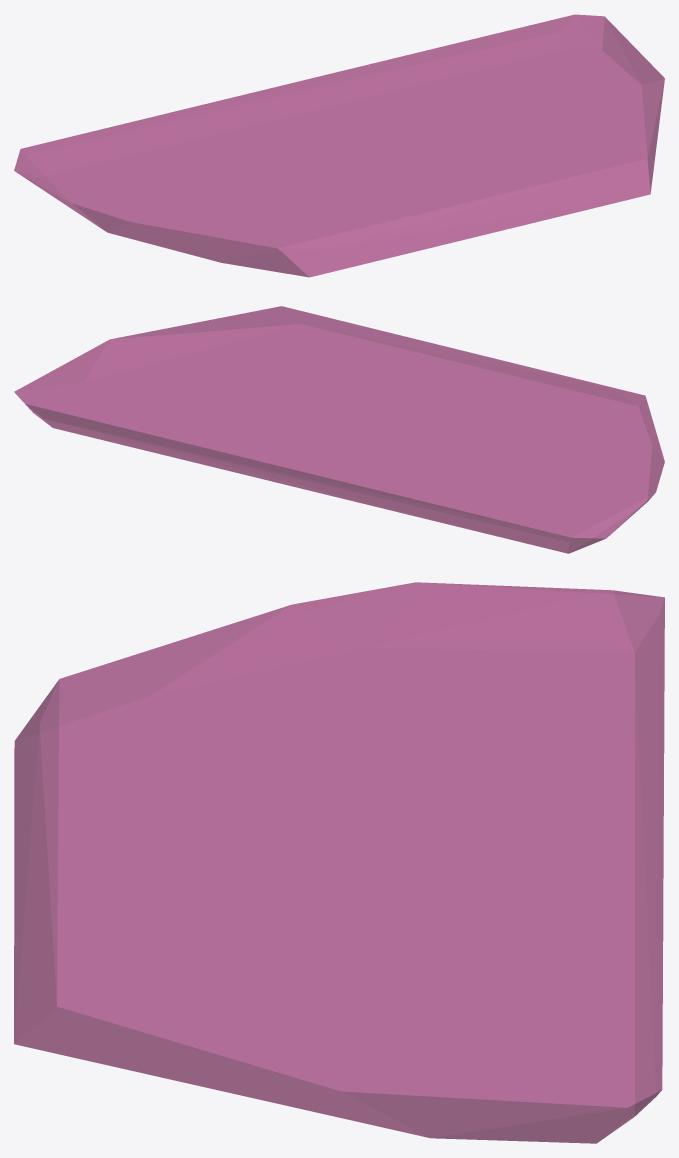
3 renders of one model, top to bottom at view 1: azimuth 30°, elevation 25°; view 2: azimuth 150°, elevation 25°; view 3: azimuth 270°, elevation 25°, orthographic. The views are drawn at different scales.
Visible parts, largest first — view 1: Shape_IndexedFaceSet.007_Shape_IndexedFaceSet.11085; view 2: Shape_IndexedFaceSet.007_Shape_IndexedFaceSet.11085; view 3: Shape_IndexedFaceSet.007_Shape_IndexedFaceSet.11085.
Boxes of the visible parts, x1=… form: Shape_IndexedFaceSet.007_Shape_IndexedFaceSet.11085: x1=14, y1=14, x2=664, y2=277; Shape_IndexedFaceSet.007_Shape_IndexedFaceSet.11085: x1=14, y1=306, x2=664, y2=553; Shape_IndexedFaceSet.007_Shape_IndexedFaceSet.11085: x1=14, y1=582, x2=664, y2=1143.
Bounding box in the file's own units: 0.6965 × 0.0281 × 0.3623.
